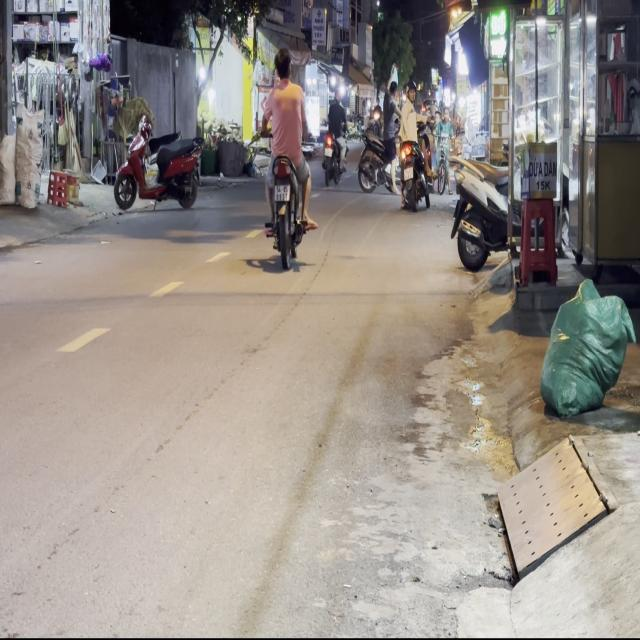licenseplate: (260, 43, 313, 265)
motorcyclist: (272, 44, 292, 82)
nohelmet: (274, 184, 290, 202)
